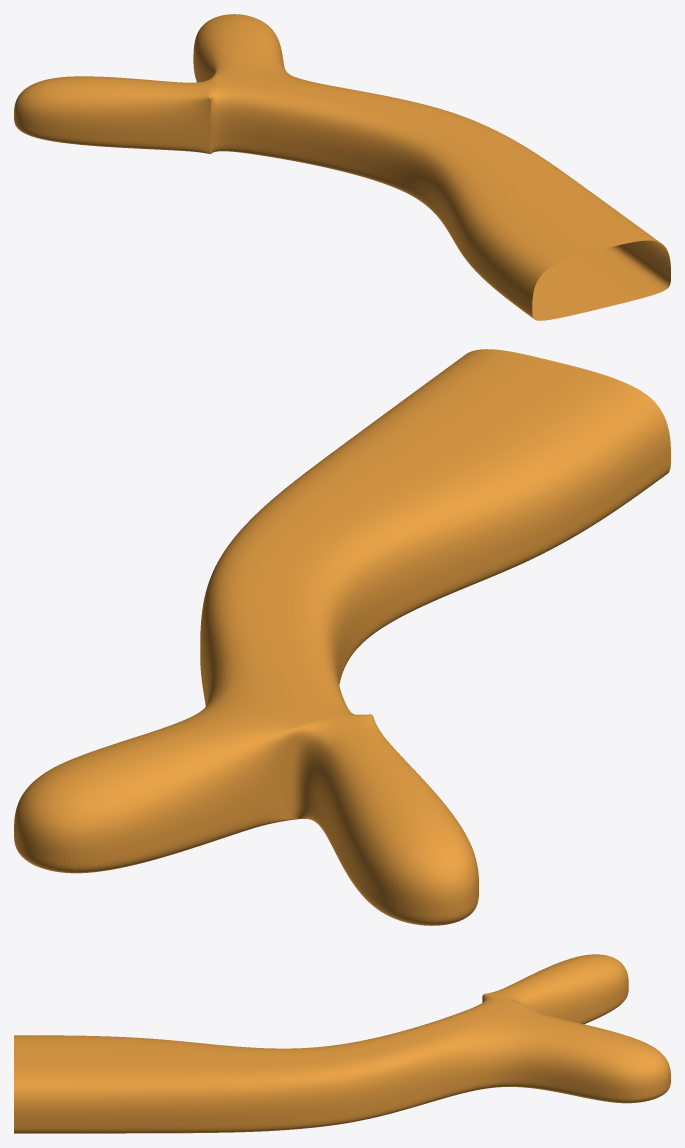
The model's file is CaveButMadeForTextures.fbx.
3 renders of one model, top to bottom at view 1: azimuth 30°, elevation 25°; view 2: azimuth 150°, elevation 25°; view 3: azimuth 270°, elevation 25°, orthographic. The views are drawn at different scales.
Visible parts, largest first — view 1: Cube.002, Cube, Cube.001; view 2: Cube.002, Cube, Cube.001; view 3: Cube.002, Cube, Cube.001.
Boxes of the visible parts, x1,y1,x2,y2 form: Cube.002: (14,14,670,305); Cube: (14,58,670,320); Cube.001: (238,15,669,259); Cube.002: (14,349,670,906); Cube: (14,452,670,925); Cube.001: (18,356,465,823); Cube.002: (14,954,670,1120); Cube: (14,985,670,1133); Cube.001: (14,1015,666,1108).
Size of the model in its own units: 2032 by 345 by 3783.
